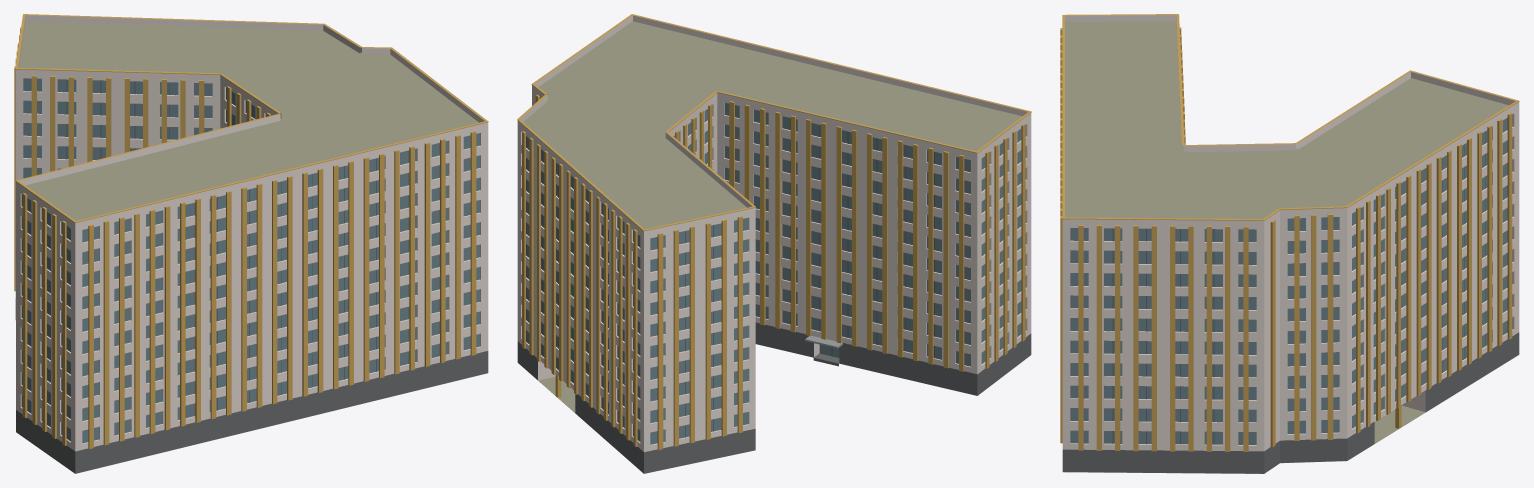
3 views of the same model, side by side, from view 1: azimuth 30°, elevation 25°; view 2: azimuth 150°, elevation 25°; view 3: azimuth 270°, elevation 25° (orthographic). The views are drawn at different scales.
Parts seen in each view (by area): view 1: namsanDorm__wall, namsanDorm__trim, namsanDorm__roof, namsanDorm__glass, namsanDorm__base, namsanDorm__parapet, namsanDorm__frame; view 2: namsanDorm__wall, namsanDorm__trim, namsanDorm__roof, namsanDorm__glass, namsanDorm__base, namsanDorm__parapet, namsanDorm__frame; view 3: namsanDorm__wall, namsanDorm__roof, namsanDorm__trim, namsanDorm__glass, namsanDorm__base, namsanDorm__parapet, namsanDorm__frame.
Boxes of the visible parts, x1=… form: namsanDorm__wall: x1=15, y1=74, x2=488, y2=451; namsanDorm__trim: x1=14, y1=14, x2=488, y2=448; namsanDorm__roof: x1=16, y1=21, x2=485, y2=473; namsanDorm__glass: x1=21, y1=78, x2=480, y2=443; namsanDorm__base: x1=15, y1=298, x2=488, y2=473; namsanDorm__parapet: x1=15, y1=15, x2=488, y2=228; namsanDorm__frame: x1=66, y1=80, x2=439, y2=417; namsanDorm__wall: x1=517, y1=90, x2=1031, y2=452; namsanDorm__trim: x1=517, y1=14, x2=1031, y2=449; namsanDorm__roof: x1=518, y1=21, x2=1024, y2=473; namsanDorm__glass: x1=526, y1=102, x2=1025, y2=444; namsanDorm__base: x1=517, y1=322, x2=1031, y2=473; namsanDorm__parapet: x1=517, y1=15, x2=1031, y2=236; namsanDorm__frame: x1=526, y1=118, x2=934, y2=442; namsanDorm__wall: x1=1062, y1=107, x2=1519, y2=451; namsanDorm__roof: x1=1063, y1=21, x2=1514, y2=473; namsanDorm__trim: x1=1060, y1=14, x2=1519, y2=451; namsanDorm__glass: x1=1070, y1=114, x2=1512, y2=444; namsanDorm__base: x1=1062, y1=332, x2=1519, y2=473; namsanDorm__parapet: x1=1062, y1=15, x2=1519, y2=226; namsanDorm__frame: x1=1112, y1=118, x2=1507, y2=444.
Bounding box in the file's own units: 65.23 × 37.6 × 61.
